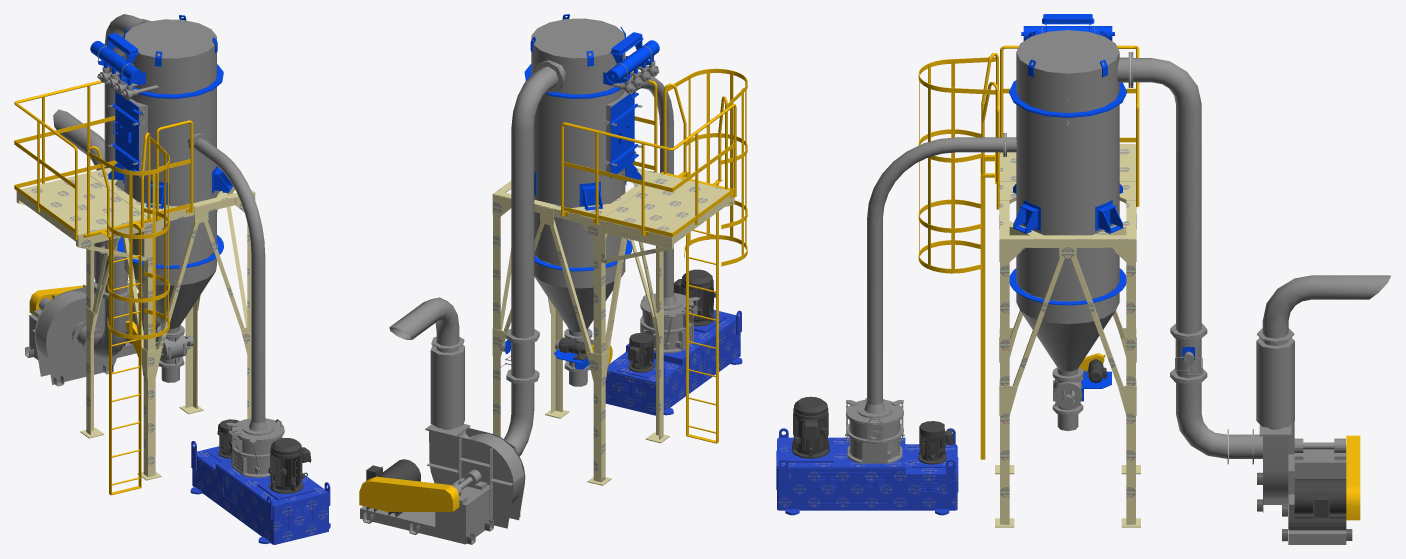
The picture shows the model from 3 angles, left to right: view 1: azimuth 30°, elevation 25°; view 2: azimuth 150°, elevation 25°; view 3: azimuth 270°, elevation 25°; orthographic projection. The views are drawn at different scales.
Visible parts, largest first — view 1: 短管.004, 架台, テスリ_1, 架台側板.001, blueparts, motorsmall, middlePart; view 2: 短管.004, 架台, テスリ_1, 架台側板.001, blueparts, motorsmall, middlePart, モータ.2; view 3: 短管.004, 架台, 架台側板.001, テスリ_1, blueparts, motorsmall, モータ.2, middlePart.
Part boxes in pixels (left/top/right/bottom): 短管.004: left=25, top=14, right=273, bottom=434; 架台: left=16, top=167, right=255, bottom=476; テスリ_1: left=14, top=76, right=193, bottom=495; 架台側板.001: left=190, top=441, right=330, bottom=544; blueparts: left=90, top=15, right=232, bottom=332; motorsmall: left=217, top=419, right=311, bottom=493; middlePart: left=225, top=418, right=284, bottom=477; 短管.004: left=360, top=18, right=682, bottom=544; 架台: left=492, top=167, right=734, bottom=482; テスリ_1: left=359, top=68, right=747, bottom=511; 架台側板.001: left=605, top=310, right=742, bottom=415; blueparts: left=505, top=14, right=659, bottom=369; motorsmall: left=627, top=269, right=715, bottom=372; middlePart: left=640, top=293, right=700, bottom=353; モータ.2: left=366, top=337, right=587, bottom=516; 短管.004: left=857, top=25, right=1390, bottom=544; 架台: left=999, top=144, right=1136, bottom=524; 架台側板.001: left=776, top=428, right=958, bottom=515; テスリ_1: left=918, top=45, right=1360, bottom=520; blueparts: left=1009, top=14, right=1194, bottom=401; motorsmall: left=791, top=396, right=952, bottom=464; モータ.2: left=1087, top=359, right=1346, bottom=530; middlePart: left=845, top=398, right=904, bottom=463.
Size of the model in its own units: 2.86 by 5.2 by 6.37.
Materials: 6 (2 with a texture image).
